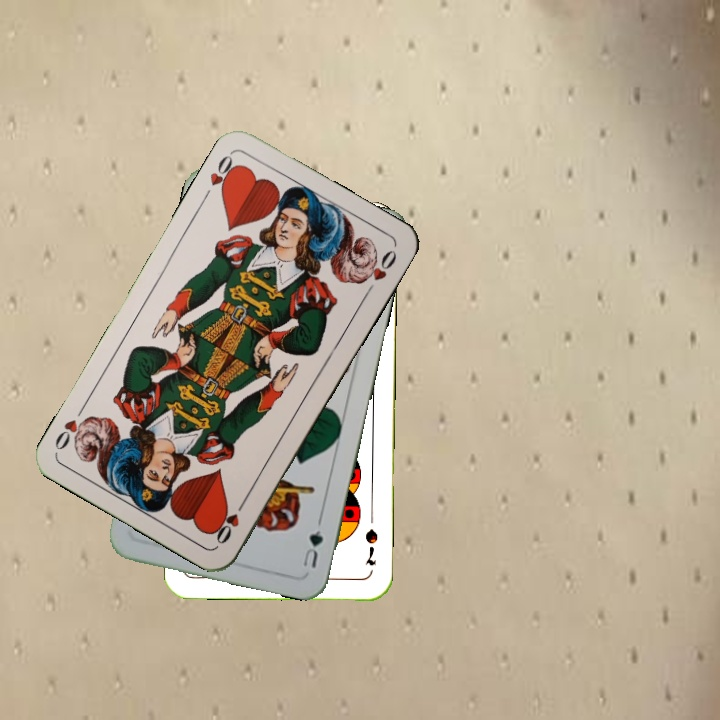GU: (298, 516, 326, 570)
HO: (210, 494, 249, 547), (205, 149, 242, 198)
S7: (361, 525, 381, 568)
